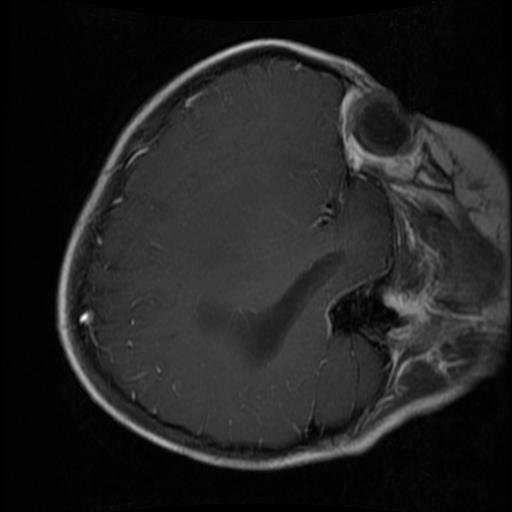glioma: (191, 250, 345, 365)
